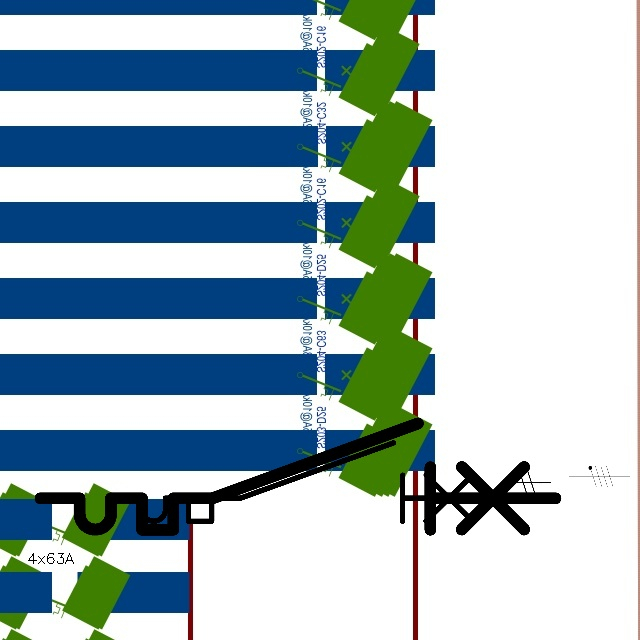interruptor_termomagnetico: (27, 410, 569, 543), (103, 433, 506, 531)
